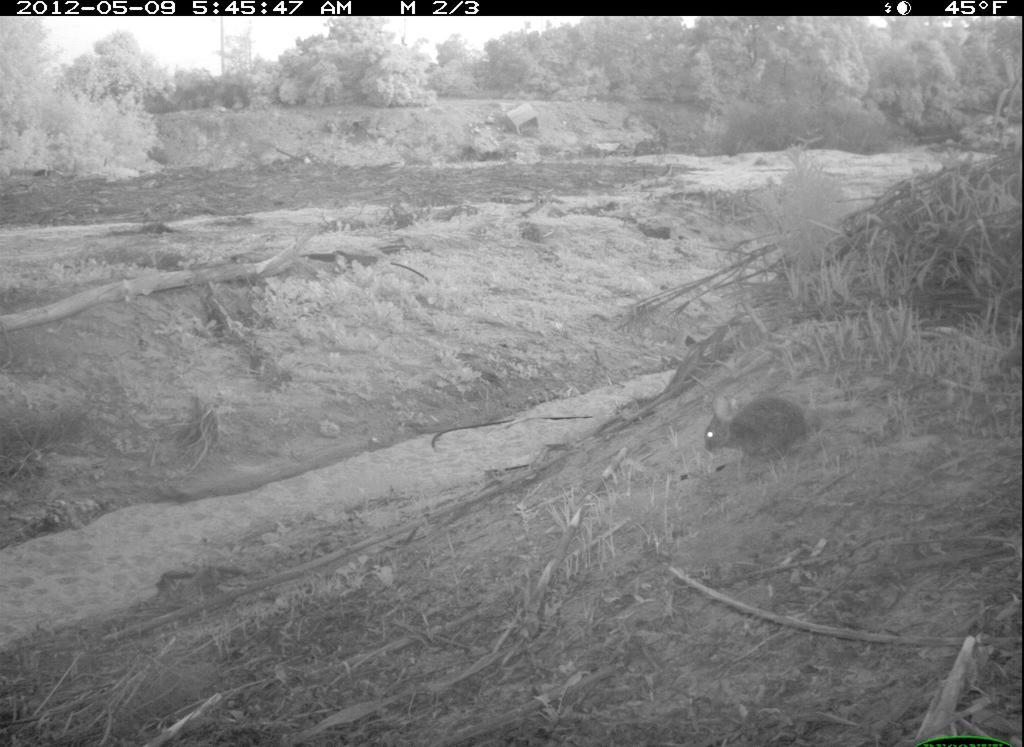rabbit: (693, 373, 830, 470)
